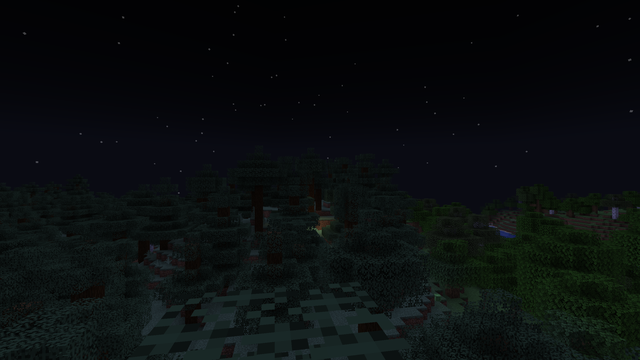slimes: (433, 293, 441, 301)
